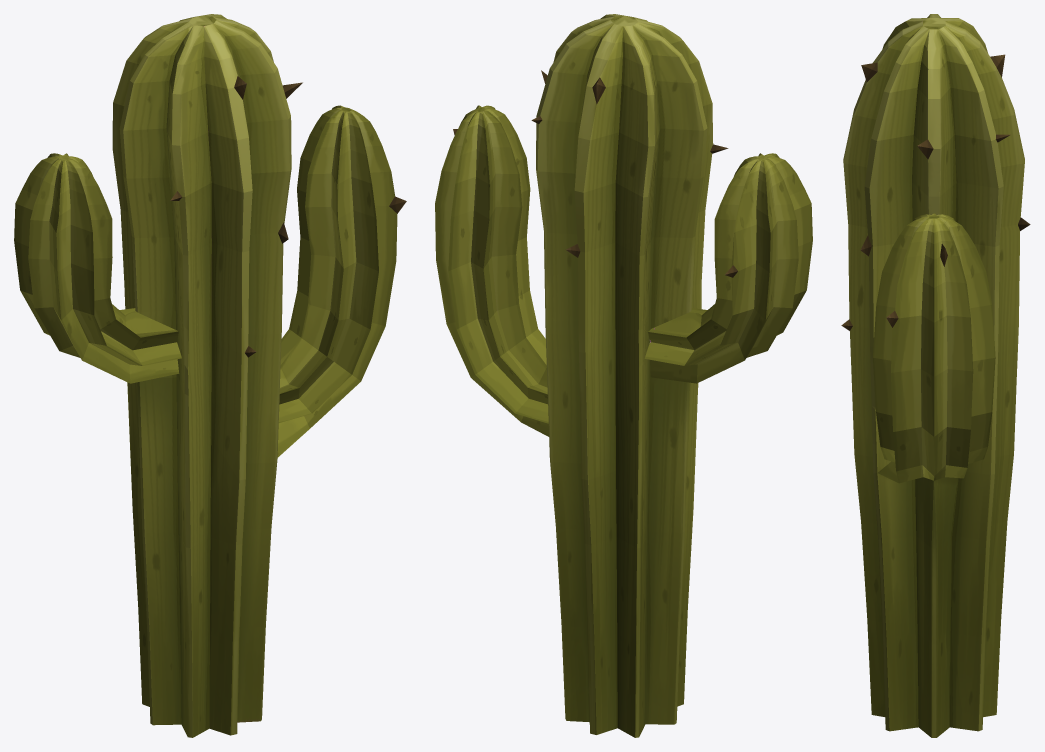
The model's file is 선인장1.FBX.
The picture shows the model from 3 angles, left to right: view 1: azimuth 30°, elevation 25°; view 2: azimuth 150°, elevation 25°; view 3: azimuth 270°, elevation 25°; orthographic projection.
Parts seen in each view (by area): view 1: Star002; view 2: Star002; view 3: Star002.
Boxes of the visible parts, x1=… form: Star002: x1=14, y1=14, x2=406, y2=737; Star002: x1=435, y1=14, x2=812, y2=737; Star002: x1=841, y1=14, x2=1030, y2=737.
Bounding box in the file's own units: 179 × 332 × 82.54.
Materials: 1 (1 with a texture image).
